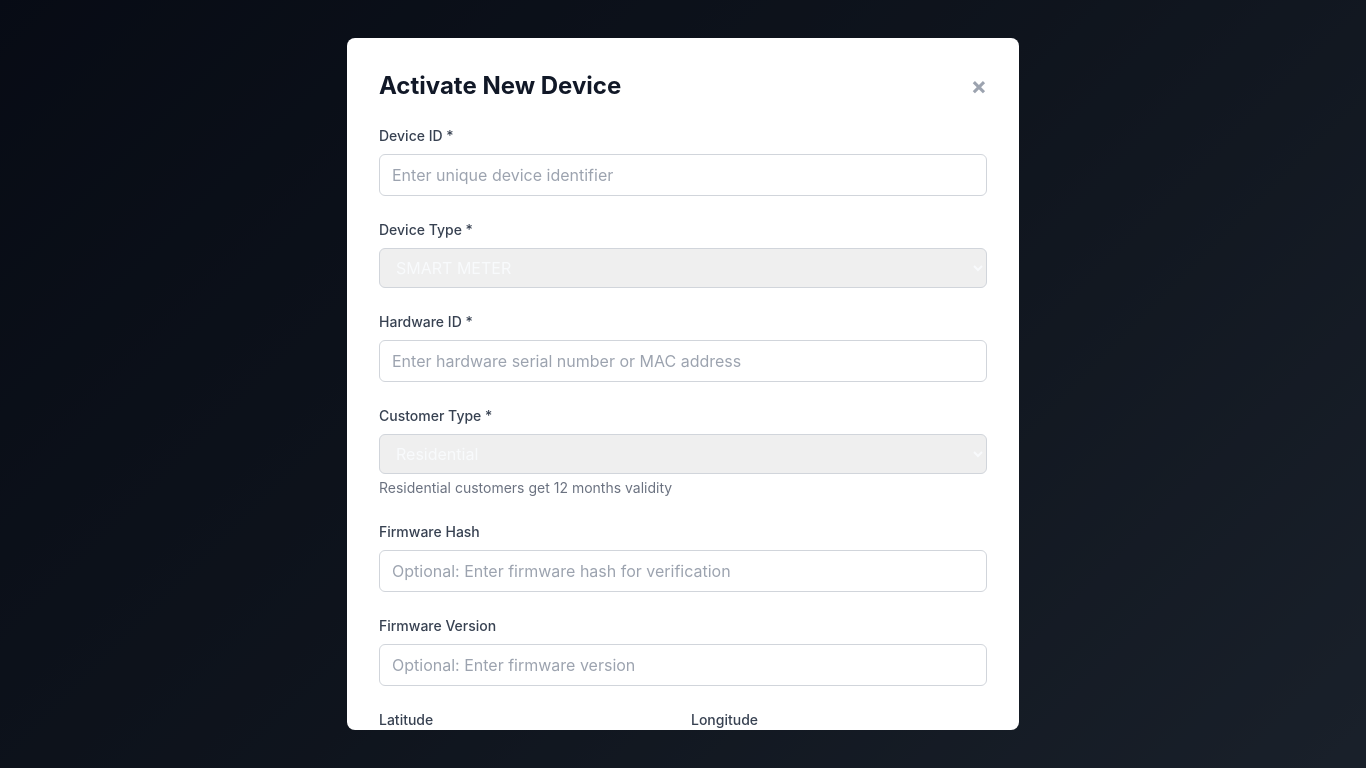
Test: DeviceActivationModal › Form Submission › should show error message on network error
This screenshot has width=1366, height=768.
Type "device-123" into the field labelled "Device ID *" at (683, 175), box 379,154 -> 987,196
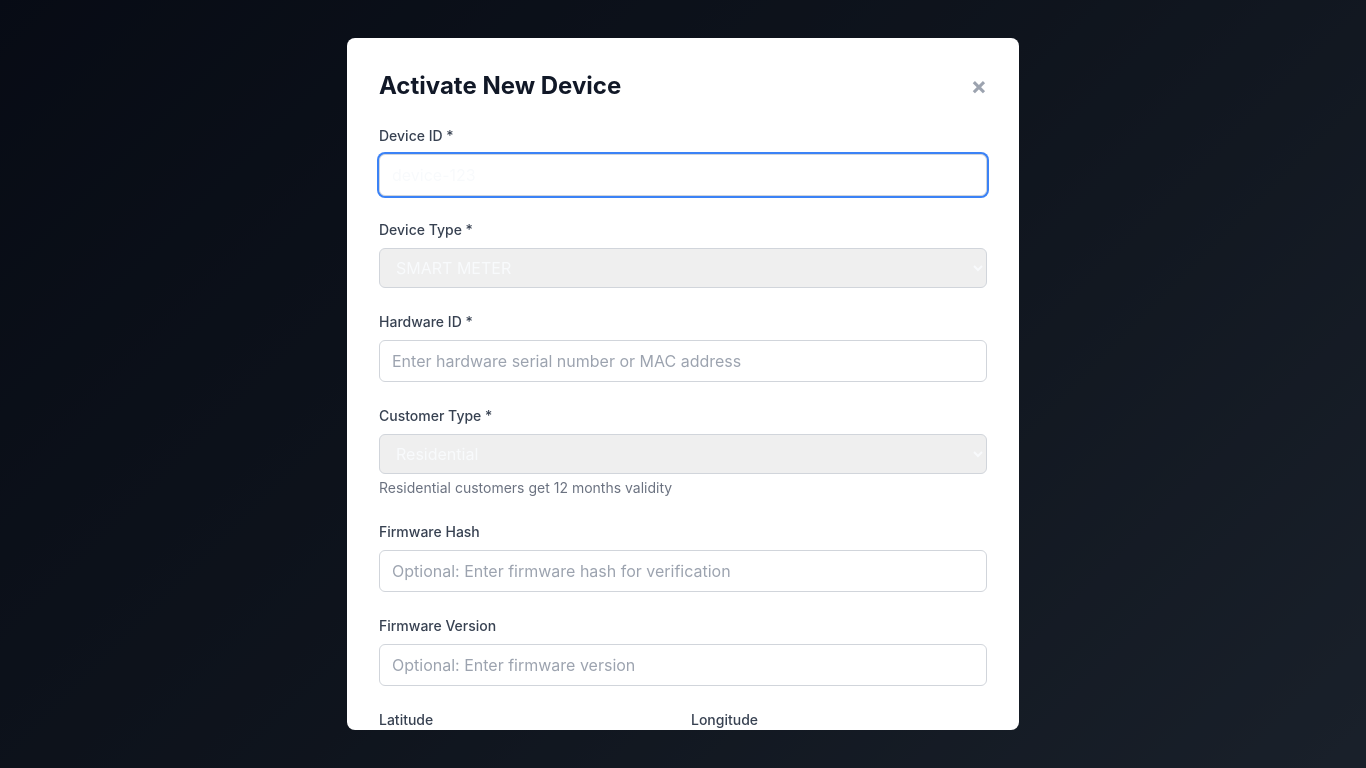
Type "hw-123" into the field labelled "Hardware ID *" at (683, 361), box 379,340 -> 987,382
(page scrolled)
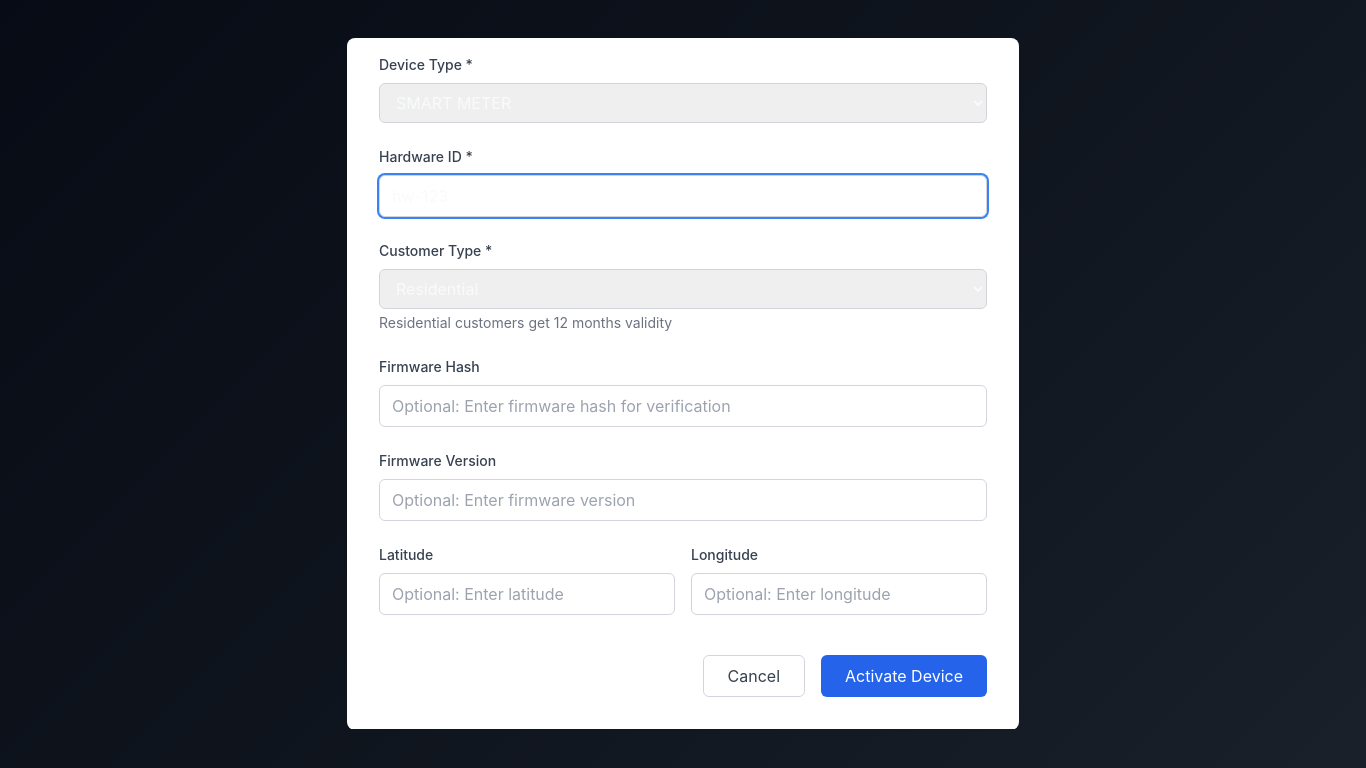
Click the button "Activate Device" at (904, 676), box 821,655 -> 987,697
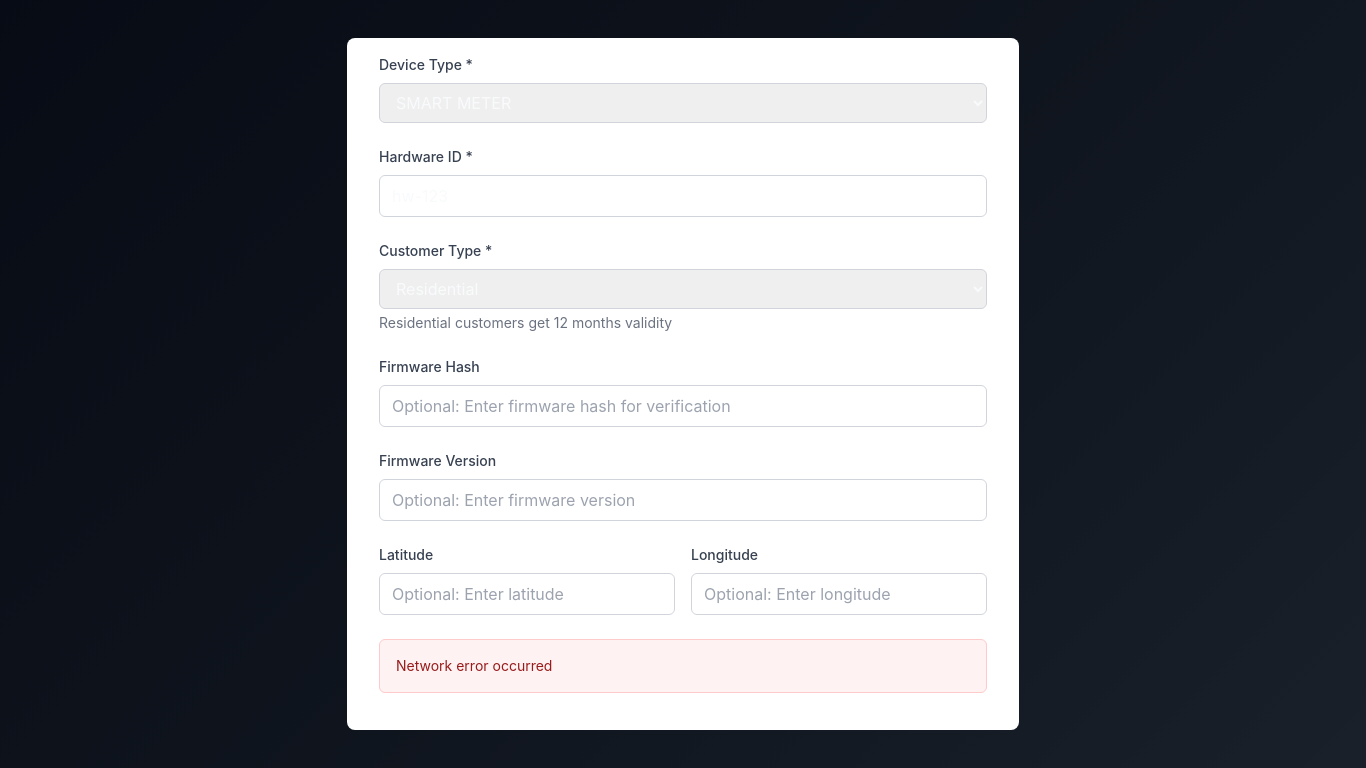
Expected: the text "Network error occurred" is shown, 396,657 -> 552,674
